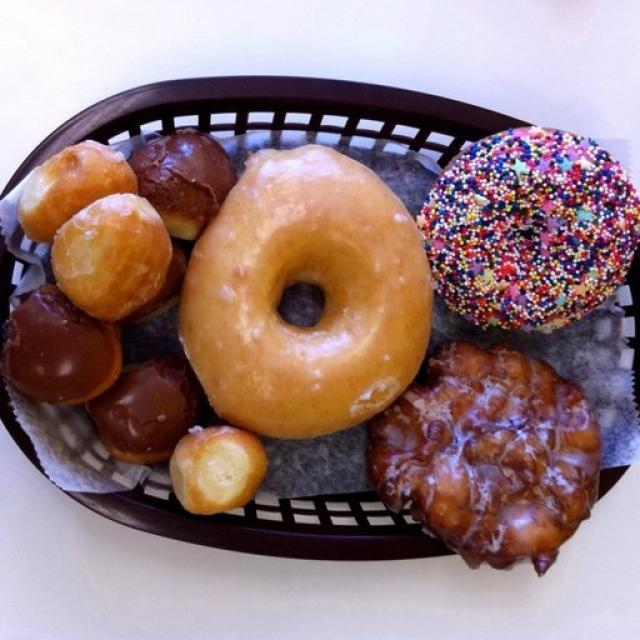Donuts: (24, 120, 634, 575)
